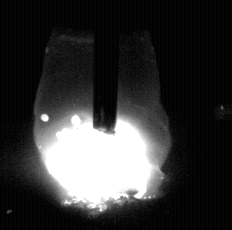arame: (94, 0, 118, 135)
poca: (33, 0, 172, 230)
